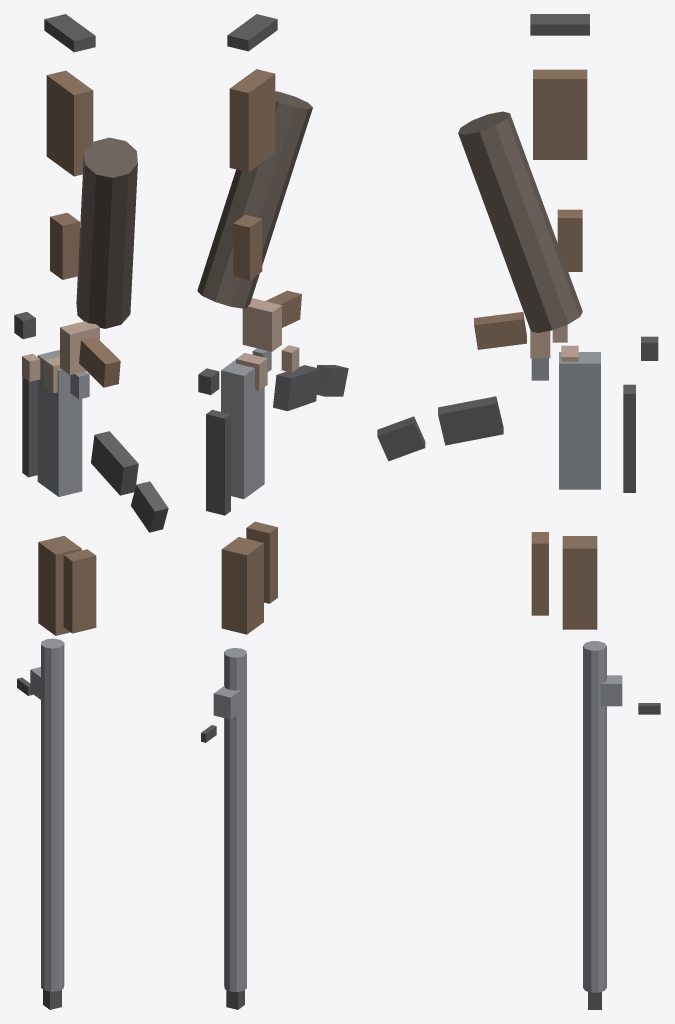
3 views of the same model, side by side, from view 1: azimuth 30°, elevation 25°; view 2: azimuth 150°, elevation 25°; view 3: azimuth 270°, elevation 25° (orthographic). The views are drawn at different scales.
Visible parts, largest first — view 1: ak47_gun, fp_hand; view 2: ak47_gun, fp_hand; view 3: ak47_gun, fp_hand.
Boxes of the visible parts, x1=… form: ak47_gun: x1=14, y1=14, x2=168, y2=1009; fp_hand: x1=22, y1=137, x2=137, y2=393; ak47_gun: x1=198, y1=14, x2=348, y2=1009; fp_hand: x1=197, y1=91, x2=312, y2=390; ak47_gun: x1=377, y1=14, x2=660, y2=1009; fp_hand: x1=458, y1=111, x2=582, y2=361.
Bounding box in the file's own units: 0.1155 × 1.1 × 0.2854.
